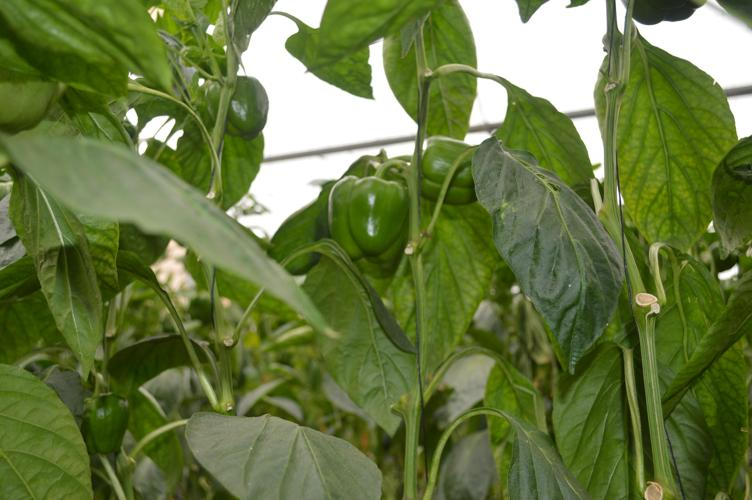BellPepper: (323, 173, 404, 272), (416, 133, 501, 212), (201, 77, 276, 140)
